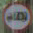Heavy Vehicles: (3, 3, 31, 30)
